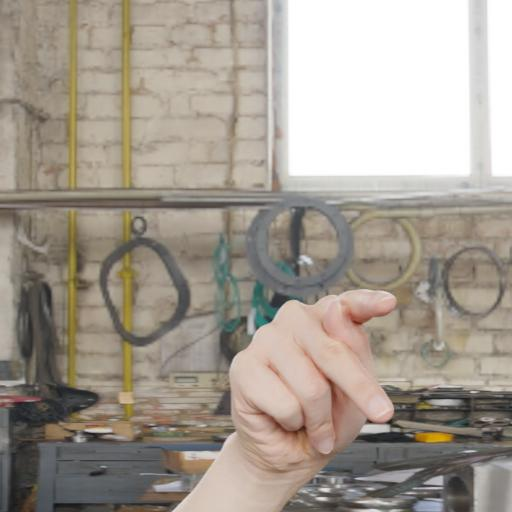P: (197, 269, 409, 512)
